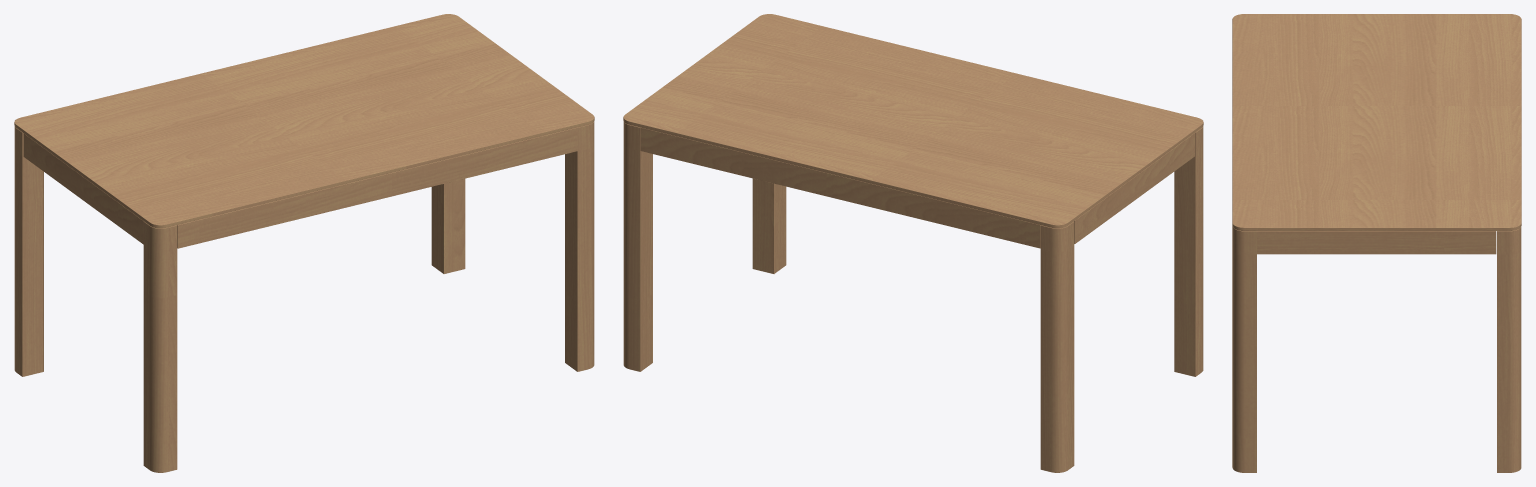
File: table_26_01.001.fbx
3 renders of one model, left to right at view 1: azimuth 30°, elevation 25°; view 2: azimuth 150°, elevation 25°; view 3: azimuth 270°, elevation 25°, orthographic.
Parts seen in each view (by area): view 1: table_26_01.001; view 2: table_26_01.001; view 3: table_26_01.001.
Boxes of the visible parts, x1,y1,x2,y2 form: table_26_01.001: [14, 14, 594, 472]; table_26_01.001: [623, 14, 1203, 472]; table_26_01.001: [1232, 14, 1521, 472].
Bounding box in the file's own units: 140 × 74.88 × 79.97.
1 material, 1 textured.
